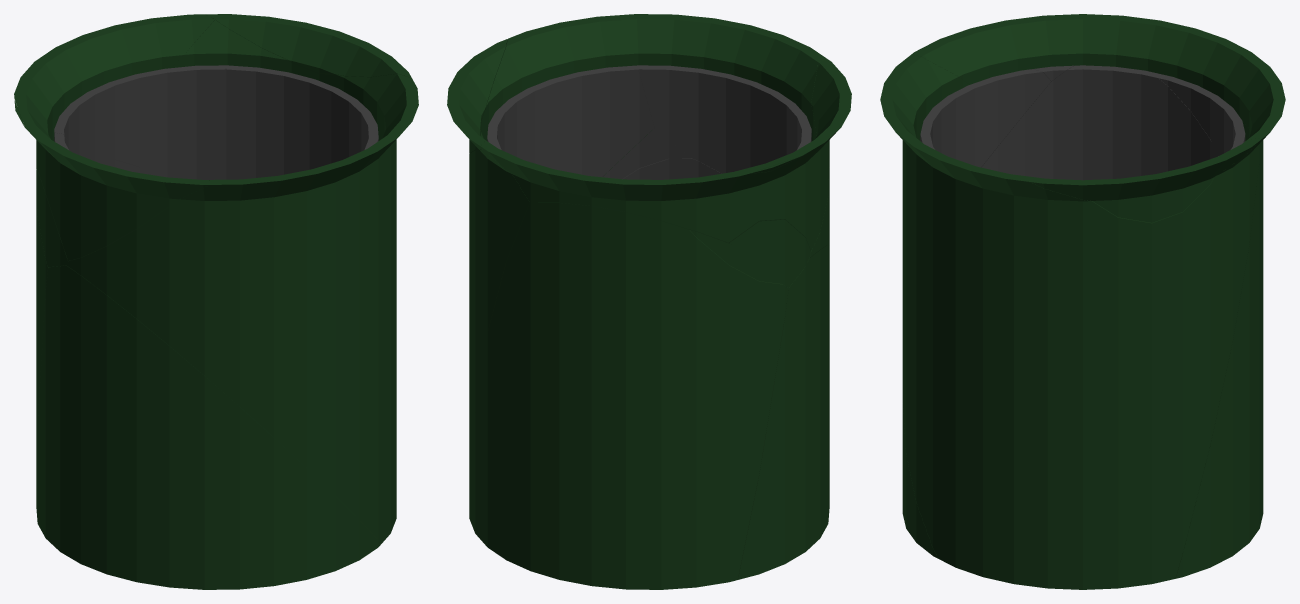
File: TrashCanShadder.fbx
The picture shows the model from 3 angles, left to right: view 1: azimuth 30°, elevation 25°; view 2: azimuth 150°, elevation 25°; view 3: azimuth 270°, elevation 25°; orthographic projection.
Parts seen in each view (by area): view 1: OuterTrash_cell.006, OuterTrash_cell, OuterTrash_cell.003, InnerTrash_cell.001, InnerTrash_cell.007, OuterTrash_cell.005, OuterTrash_cell.002, OuterTrash_cell.004, InnerTrash_cell.004; view 2: OuterTrash_cell.002, OuterTrash_cell.006, OuterTrash_cell.003, OuterTrash_cell, InnerTrash_cell.007, InnerTrash_cell.003, OuterTrash_cell.005, OuterTrash_cell.004, InnerTrash_cell.004, InnerTrash_cell.006, OuterTrash_cell.001; view 3: OuterTrash_cell.006, OuterTrash_cell.003, InnerTrash_cell.004, OuterTrash_cell.002, InnerTrash_cell.003, OuterTrash_cell.005, InnerTrash_cell.001, OuterTrash_cell.
Boxes of the visible parts, box(x1,y1,x2,y2) form: OuterTrash_cell.006: box(66, 20, 418, 543); OuterTrash_cell: box(36, 265, 380, 589); OuterTrash_cell.003: box(14, 14, 214, 260); InnerTrash_cell.001: box(54, 65, 250, 179); InnerTrash_cell.007: box(224, 65, 378, 178); OuterTrash_cell.005: box(205, 14, 411, 77); OuterTrash_cell.002: box(36, 192, 48, 511); OuterTrash_cell.004: box(36, 170, 67, 266); InnerTrash_cell.004: box(54, 133, 181, 178); OuterTrash_cell.002: box(469, 202, 788, 589); OuterTrash_cell.006: box(469, 14, 829, 493); OuterTrash_cell.003: box(480, 59, 851, 250); OuterTrash_cell: box(738, 244, 829, 579); InnerTrash_cell.007: box(487, 65, 654, 177); InnerTrash_cell.003: box(635, 65, 811, 173); OuterTrash_cell.005: box(447, 39, 507, 152); OuterTrash_cell.004: box(729, 219, 810, 288); InnerTrash_cell.004: box(602, 128, 691, 178); InnerTrash_cell.006: box(622, 158, 721, 179); OuterTrash_cell.001: box(690, 230, 781, 283); OuterTrash_cell.006: box(880, 54, 1259, 589); OuterTrash_cell.003: box(912, 14, 1285, 160); InnerTrash_cell.004: box(981, 65, 1218, 180); OuterTrash_cell.002: box(1175, 121, 1263, 578); InnerTrash_cell.003: box(920, 69, 1050, 167); OuterTrash_cell.005: box(1030, 138, 1262, 222); InnerTrash_cell.001: box(1158, 75, 1245, 155); OuterTrash_cell: box(902, 404, 938, 558).
Bounding box in the file's own units: 487 × 549 × 487.
